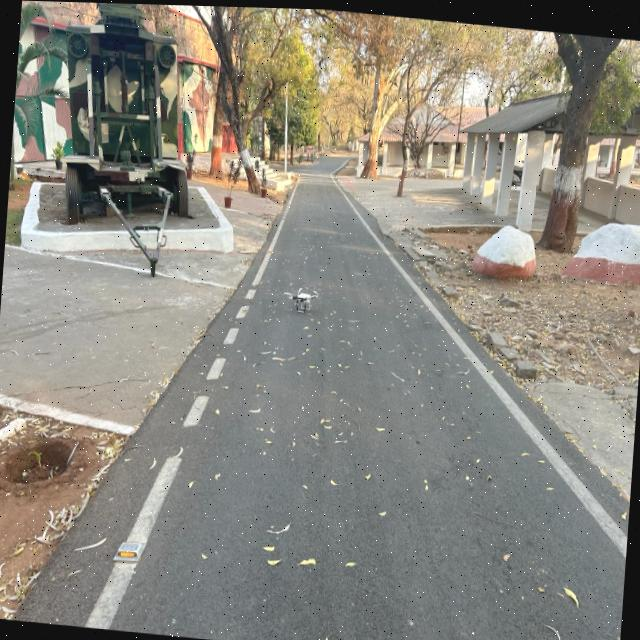drone: (274, 257, 330, 334)
